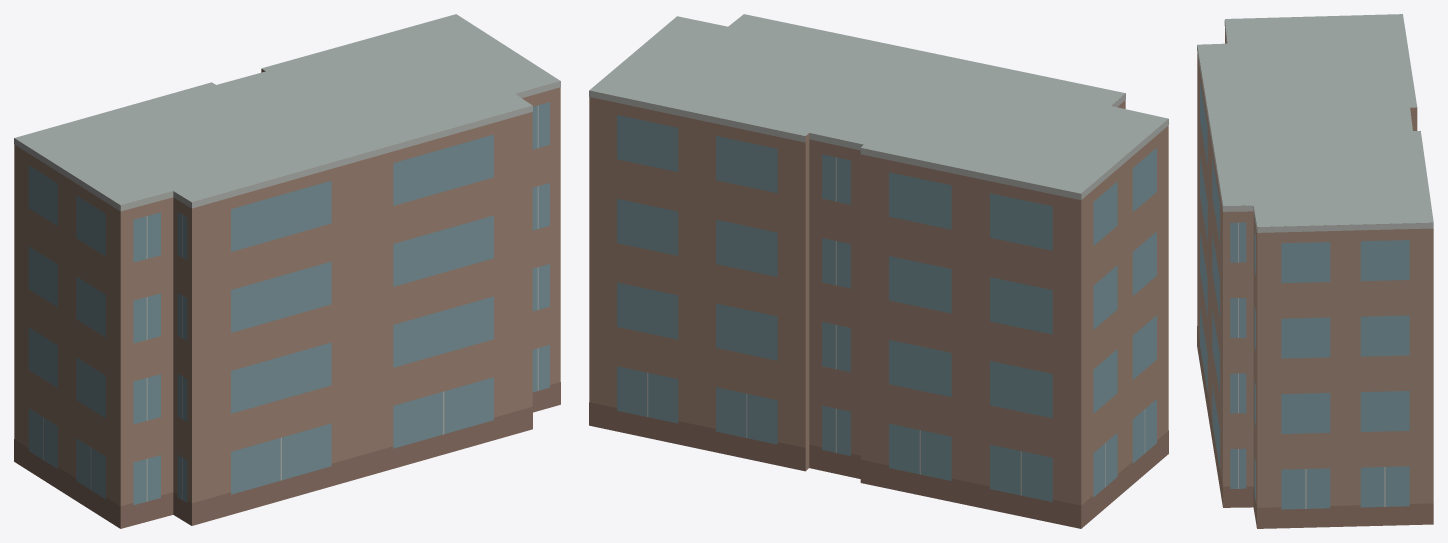
The model's file is survey-upis-32703856.glb.
The picture shows the model from 3 angles, left to right: view 1: azimuth 30°, elevation 25°; view 2: azimuth 150°, elevation 25°; view 3: azimuth 270°, elevation 25°; orthographic projection. The views are drawn at different scales.
Visible parts, largest first — view 1: survey-upis-32703856.tmp; view 2: survey-upis-32703856.tmp; view 3: survey-upis-32703856.tmp.
Part boxes in pixels (x1,y1,x2,y2): survey-upis-32703856.tmp: [14, 14, 560, 528]; survey-upis-32703856.tmp: [589, 14, 1168, 528]; survey-upis-32703856.tmp: [1197, 14, 1433, 528].
Bounding box in the file's own units: 19.25 × 12.7 × 9.03.
